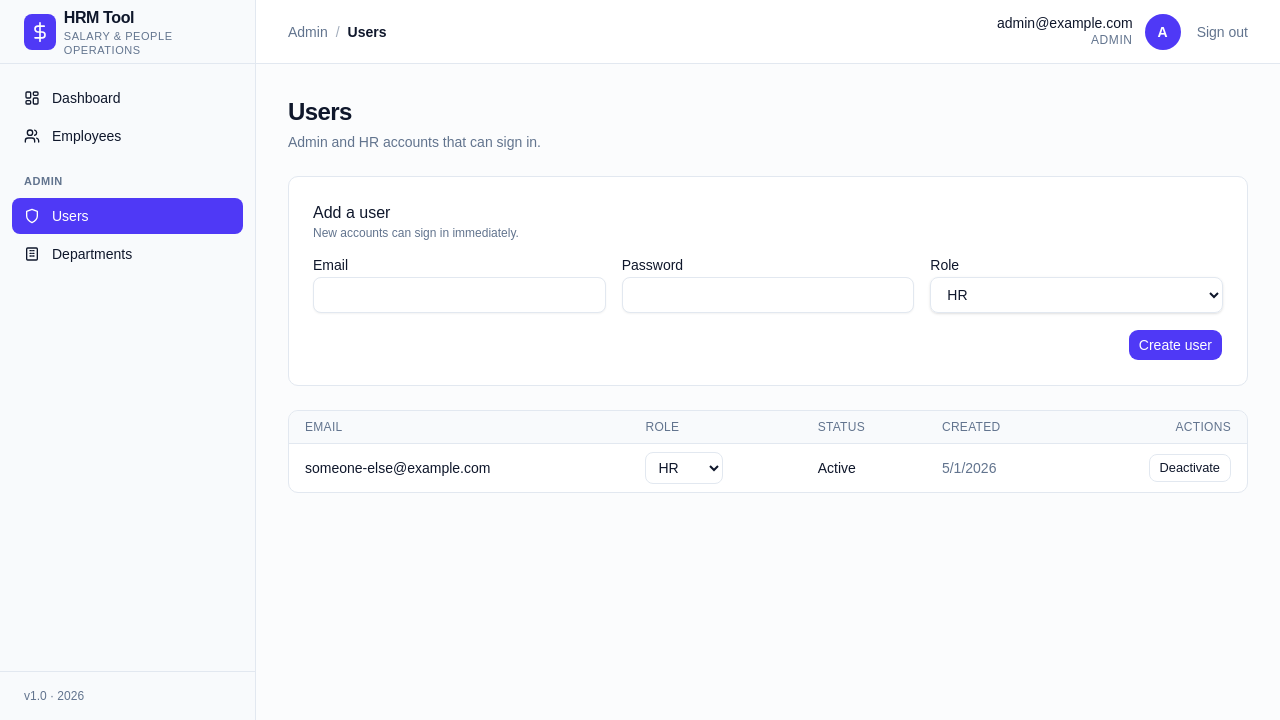
Test case: UsersPage › shows a server error when an edit fails
This screenshot has width=1280, height=720.
Check: the text "someone-else@example.com" is shown, box x1=289 y1=444 x2=629 y2=492
Click the button with aria-label "deactivate someone-else@example.com".
click(1190, 468)  # box x1=1148 y1=454 x2=1231 y2=482
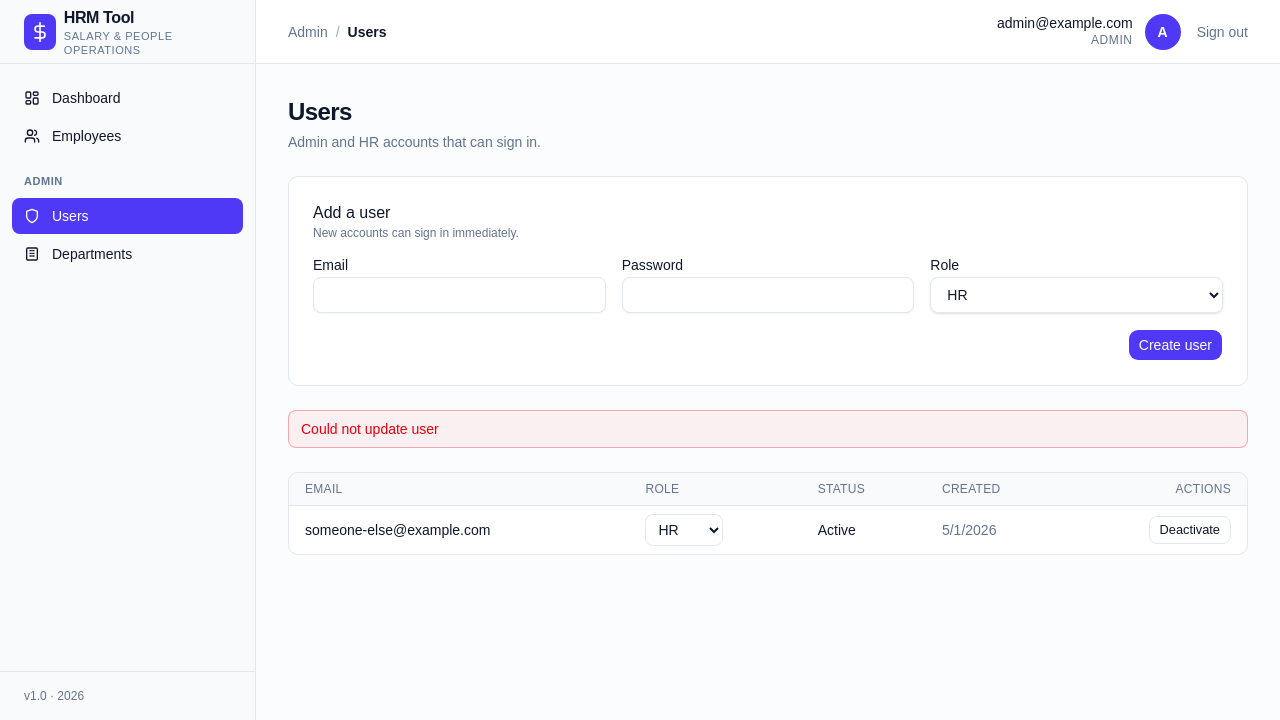
Check: the text "Could not update user" is shown, box x1=288 y1=410 x2=1248 y2=448
